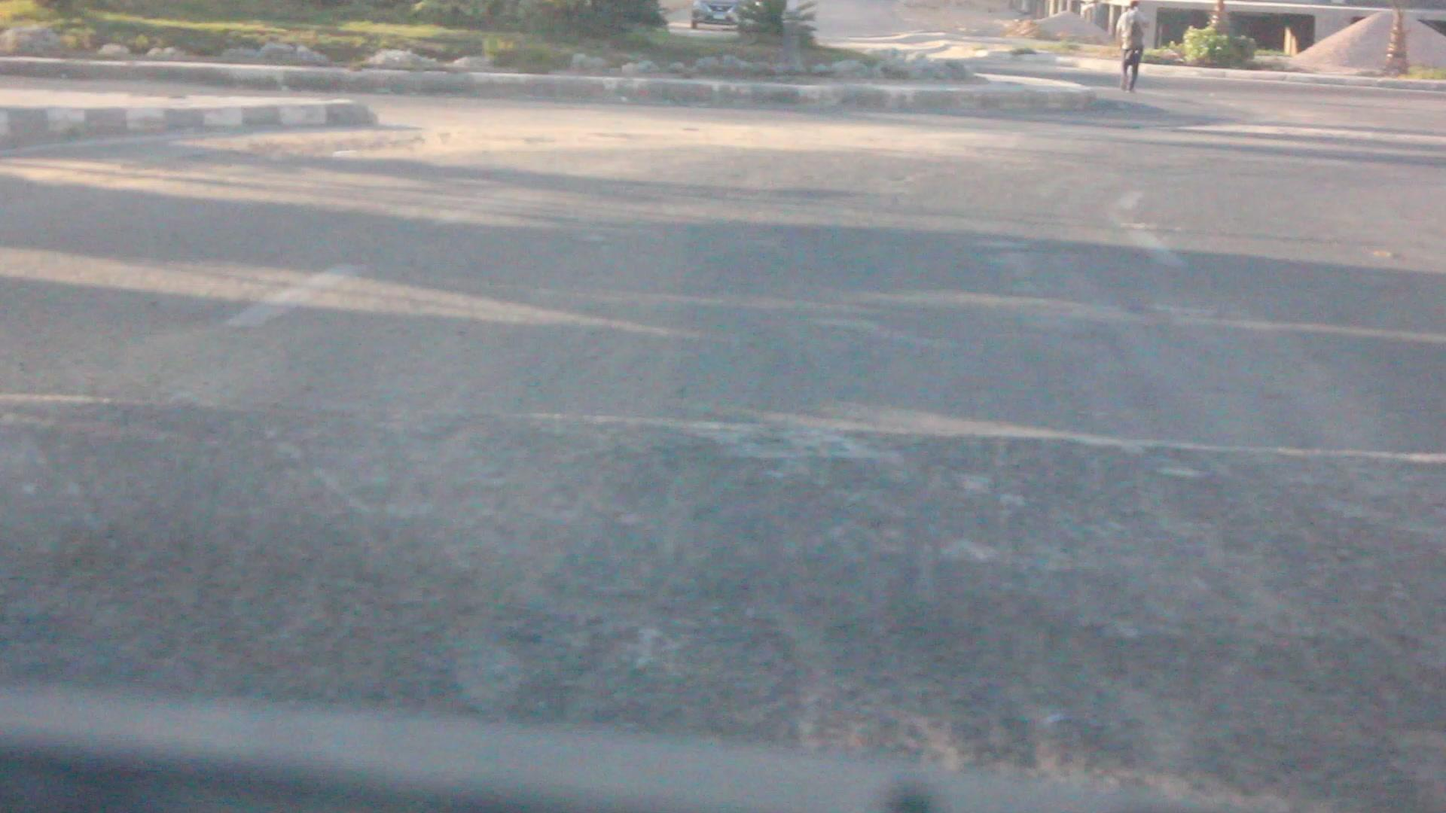Bump: (23, 416, 1446, 787)
